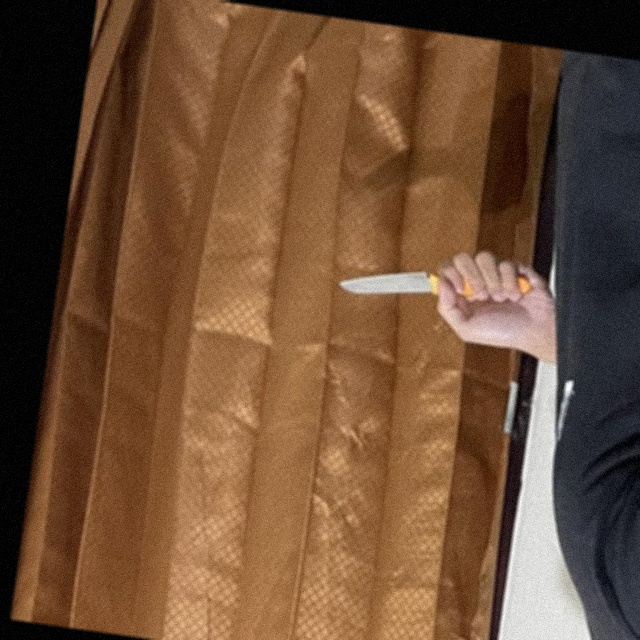Sharp-Object: (337, 247, 534, 320)
